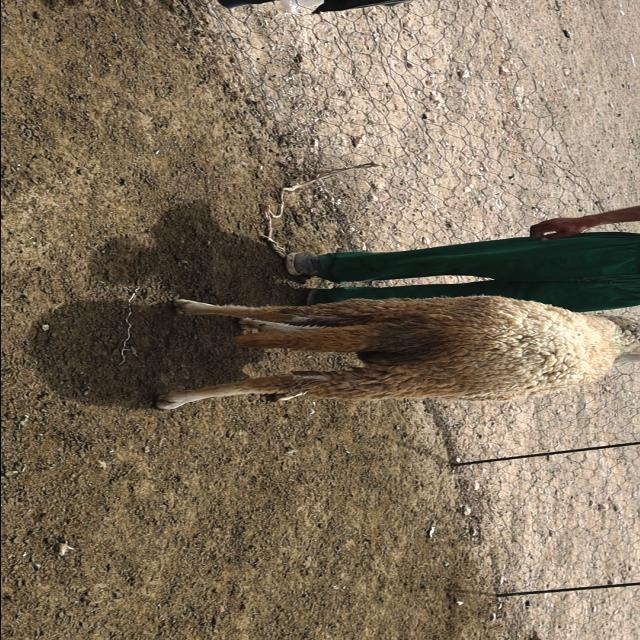Score_2: (155, 296, 640, 410)
